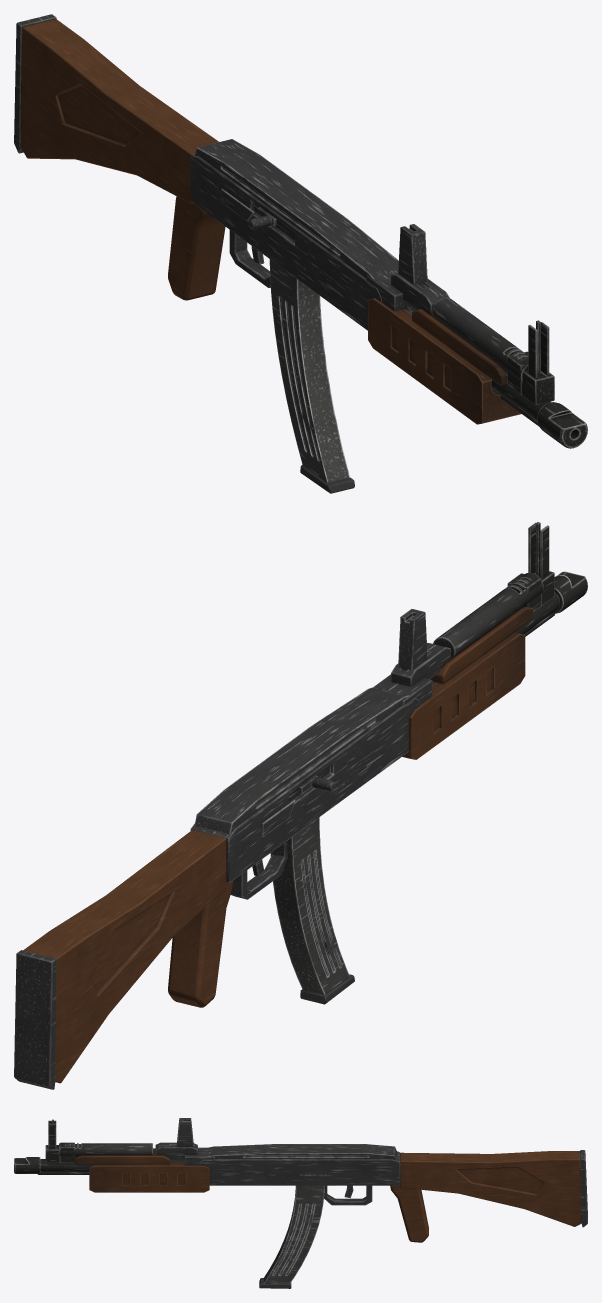
The model's file is ak_rifle.glb.
3 renders of one model, top to bottom at view 1: azimuth 30°, elevation 25°; view 2: azimuth 150°, elevation 25°; view 3: azimuth 270°, elevation 25°, orthographic. The views are drawn at different scales.
Visible parts, largest first — view 1: body, magazine, rear_sight; view 2: body, magazine, rear_sight; view 3: body, magazine, rear_sight.
Boxes of the visible parts, <box> form: body: <box>14,14,587,448</box>; magazine: <box>269,259,354,493</box>; rear_sight: <box>391,224,449,317</box>; body: <box>14,522,587,1089</box>; magazine: <box>270,817,354,1004</box>; rear_sight: <box>391,609,450,686</box>; body: <box>14,1119,587,1242</box>; magazine: <box>259,1185,324,1288</box>; rear_sight: <box>155,1118,197,1158</box>.
Size of the model in its own units: 0.058 by 0.277 by 0.868.
Materials: 1 (1 with a texture image).
